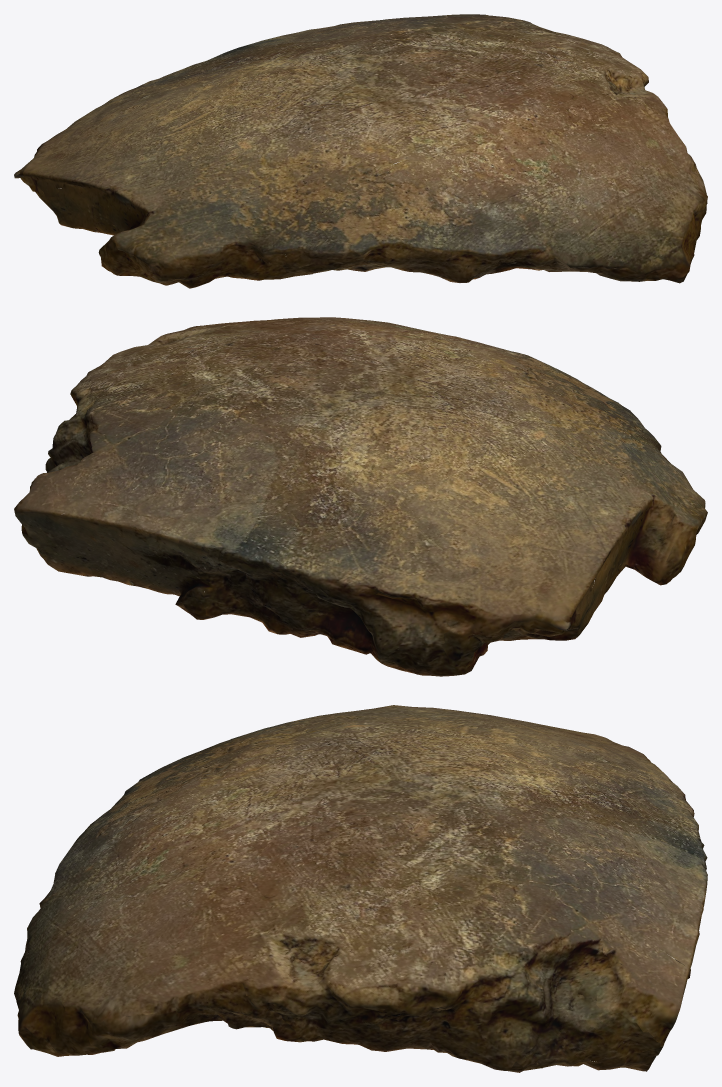
File: nml.glb
The picture shows the model from 3 angles, top to bottom: view 1: azimuth 30°, elevation 25°; view 2: azimuth 150°, elevation 25°; view 3: azimuth 270°, elevation 25°; orthographic projection. The views are drawn at different scales.
Size of the model in its own units: 0.1277 by 0.0327 by 0.1156.
Materials: 1 (1 with a texture image).
